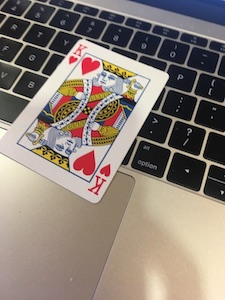KingOfHearts: (1, 36, 174, 206)
